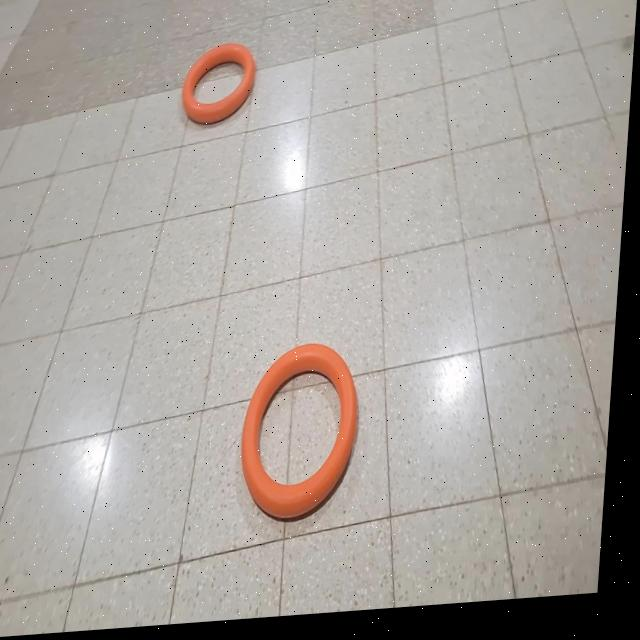note: (244, 345, 367, 526), (182, 45, 259, 132)
